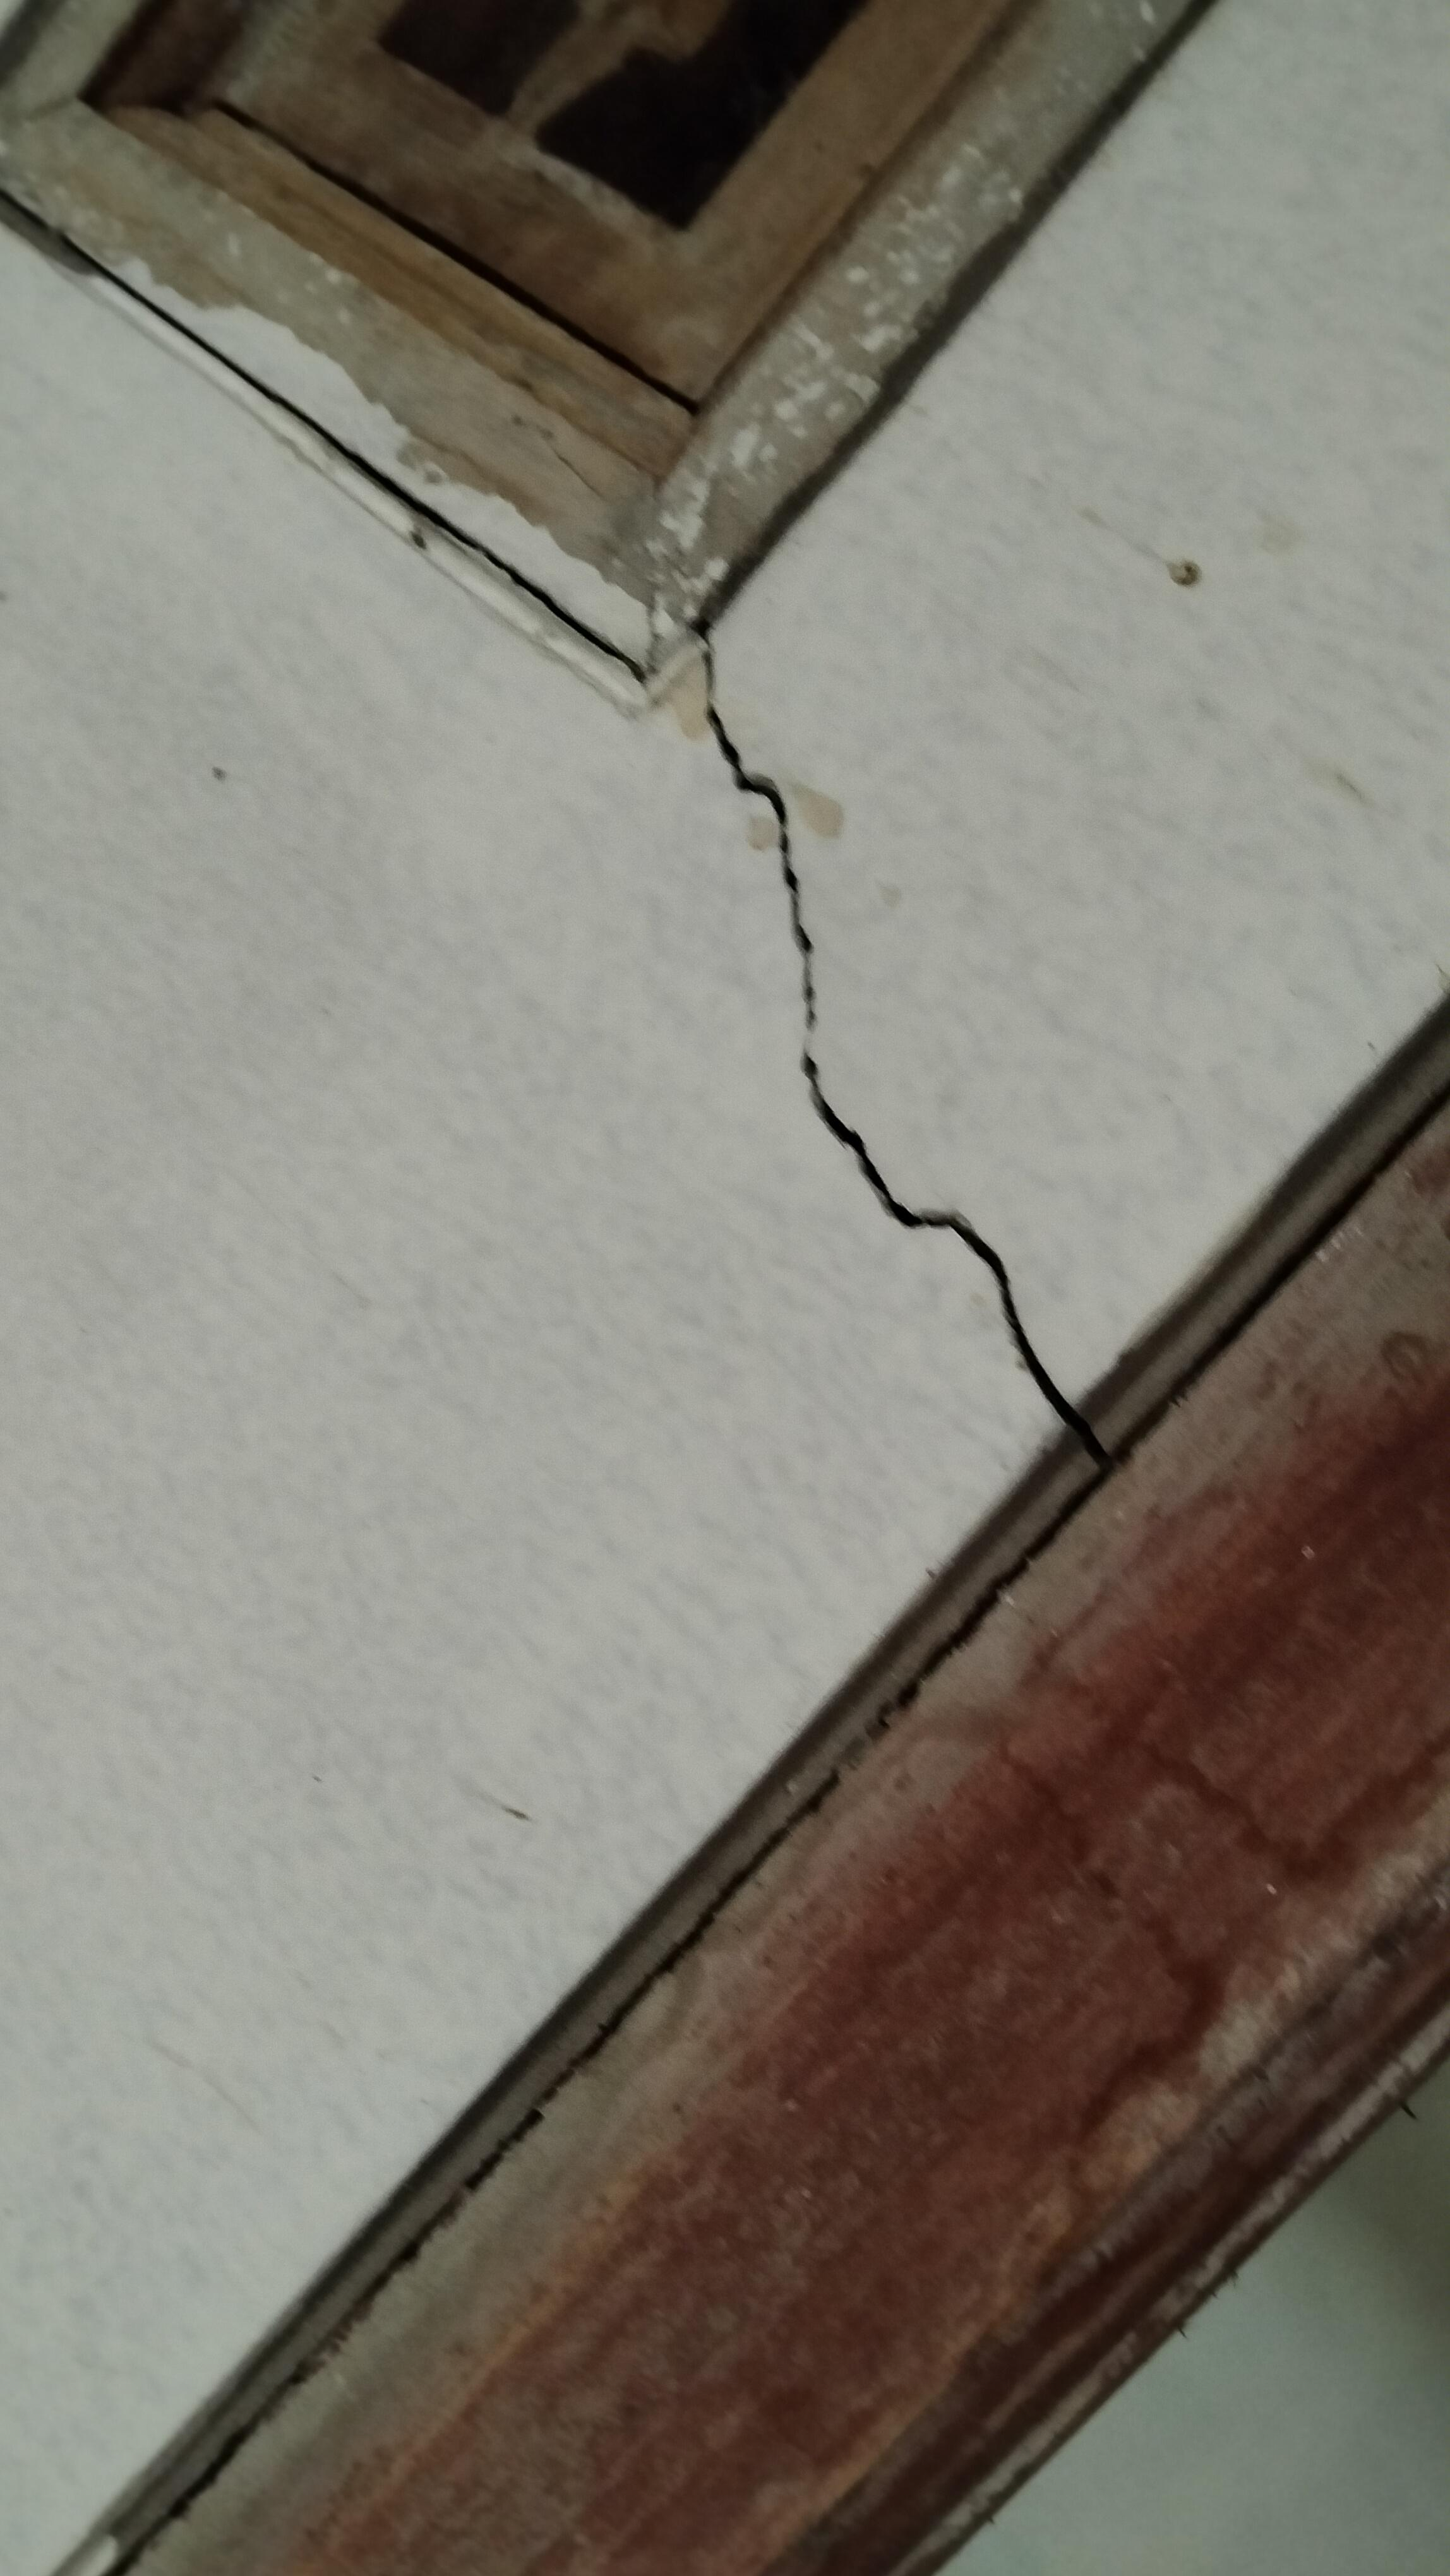Crack: (694, 600, 1112, 1477)
